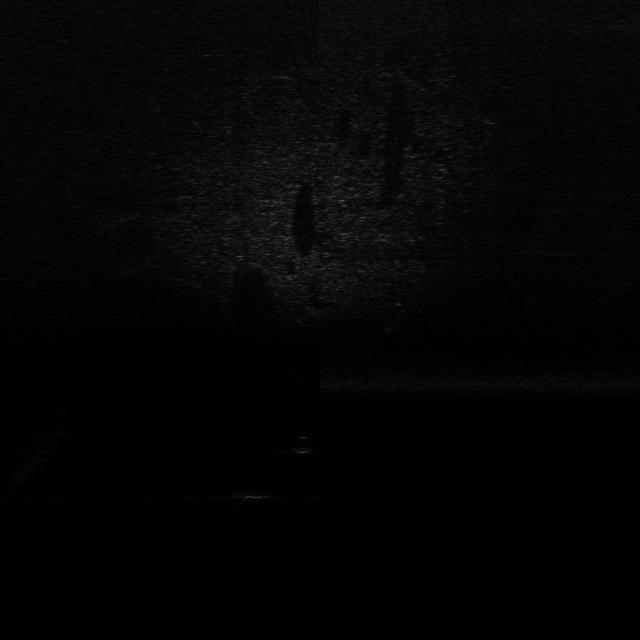ball: (287, 434, 319, 455)
square cage: (234, 487, 276, 503)
tyre: (382, 300, 412, 331)
